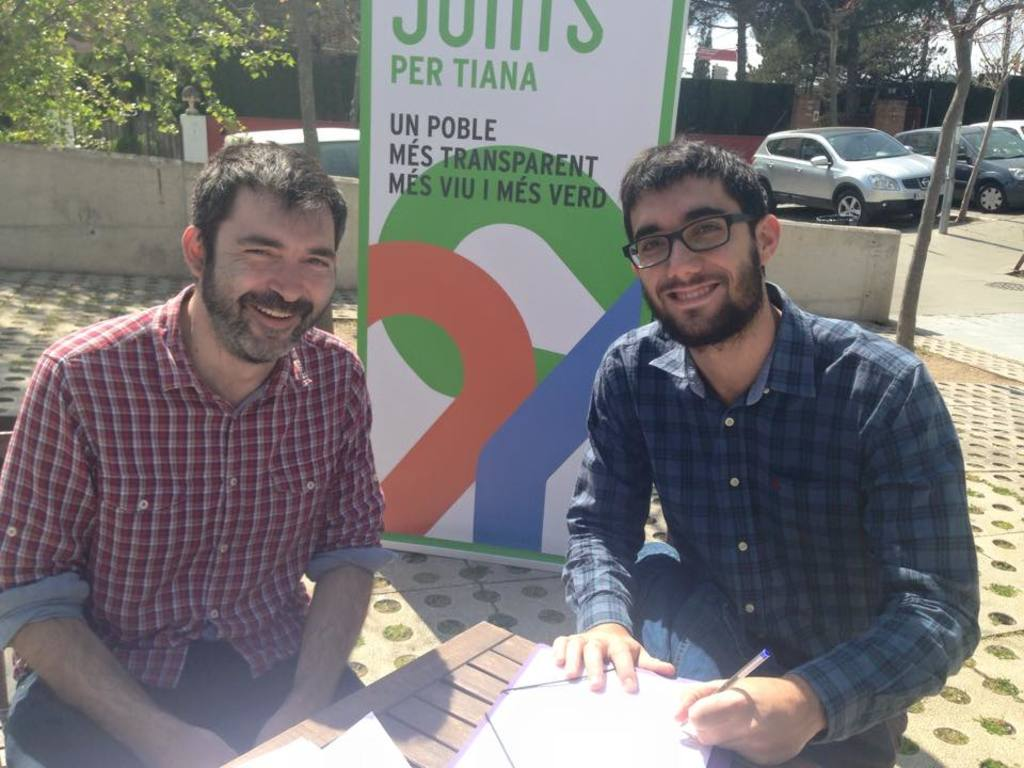Car: (738, 115, 940, 221), (892, 122, 1022, 213), (226, 129, 362, 177), (973, 117, 1022, 141)
